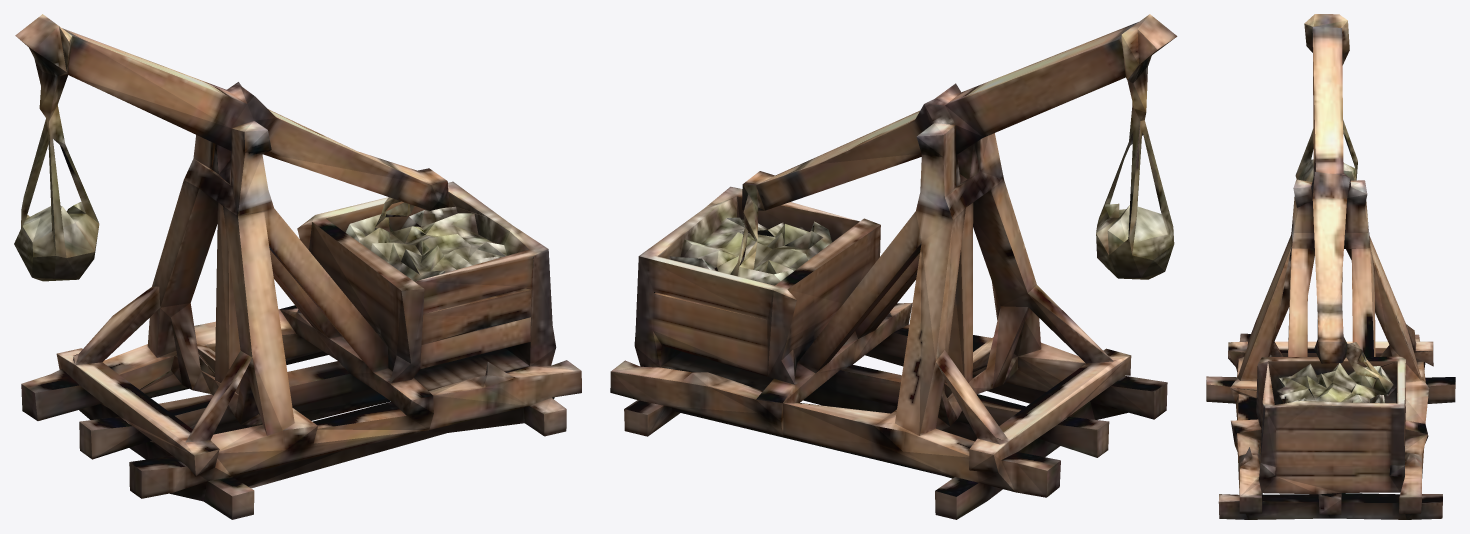
Rendered from ga3_trebuchet_lod1.glb.
The picture shows the model from 3 angles, left to right: view 1: azimuth 30°, elevation 25°; view 2: azimuth 150°, elevation 25°; view 3: azimuth 270°, elevation 25°; orthographic projection. The views are drawn at different scales.
Visible parts, largest first — view 1: ga3_trebuchet_lod1; view 2: ga3_trebuchet_lod1; view 3: ga3_trebuchet_lod1.
Part boxes in pixels (<box>): ga3_trebuchet_lod1: <box>14,14,581,519</box>; ga3_trebuchet_lod1: <box>610,14,1177,519</box>; ga3_trebuchet_lod1: <box>1206,14,1455,519</box>.
Size of the model in its own units: 12.16 by 10.92 by 7.12.
1 material, 1 textured.
